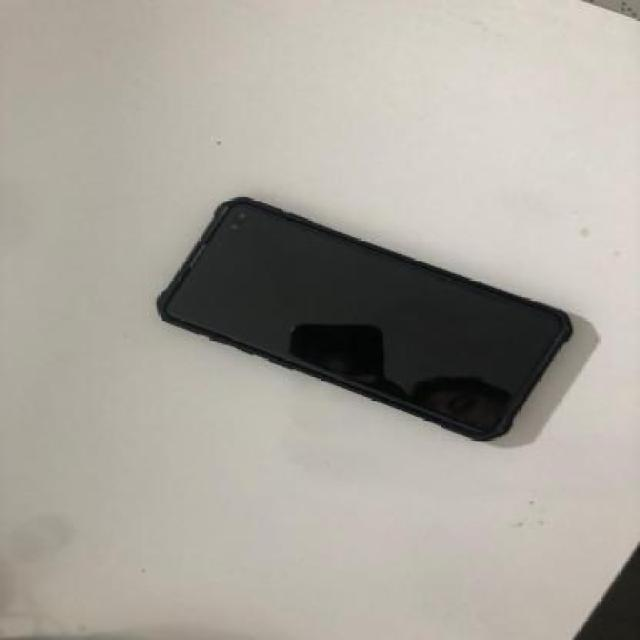phone: (155, 196, 574, 442)
